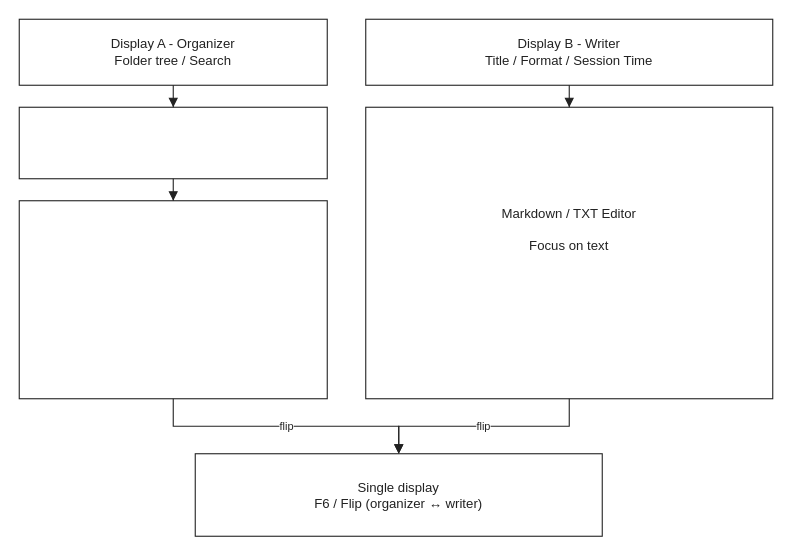
Image size: 792x556. Some labels were removed from this diagram. Here are the shapes that lost their labels. From the top down, the centre of each, then its label:
pixel 172 142: Battery / WiFi / Bluetooth Date & Time
pixel 172 299: Root Work Project Personal
